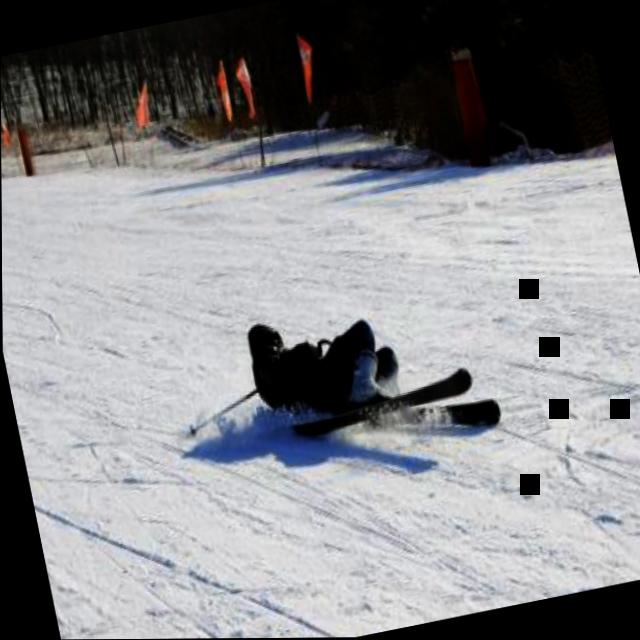Fall-Detected: (231, 280, 411, 436)
